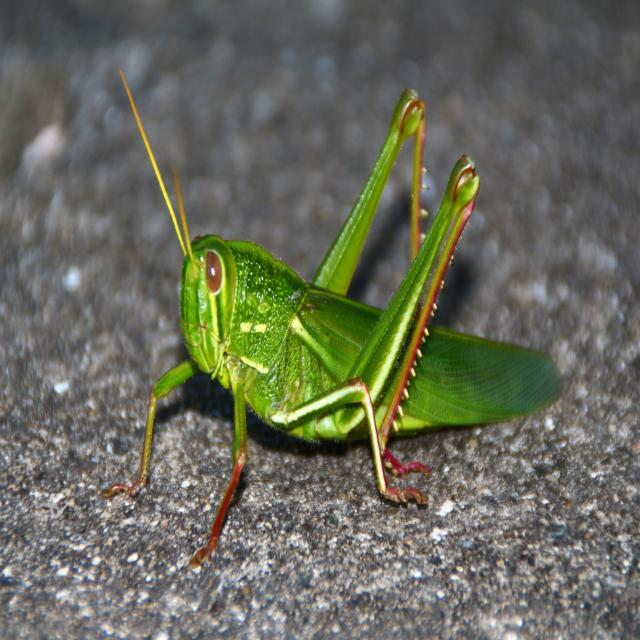ZhaMeng: (112, 89, 574, 535)
